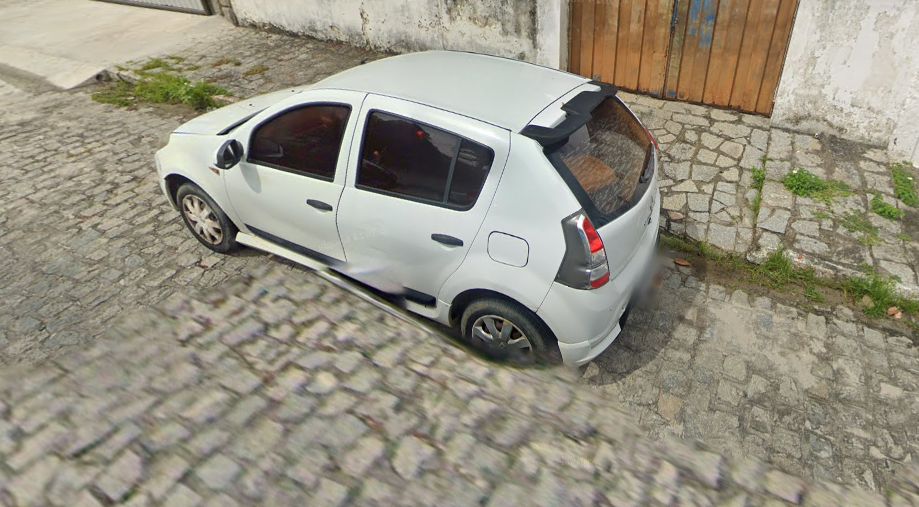car: (148, 45, 664, 374)
